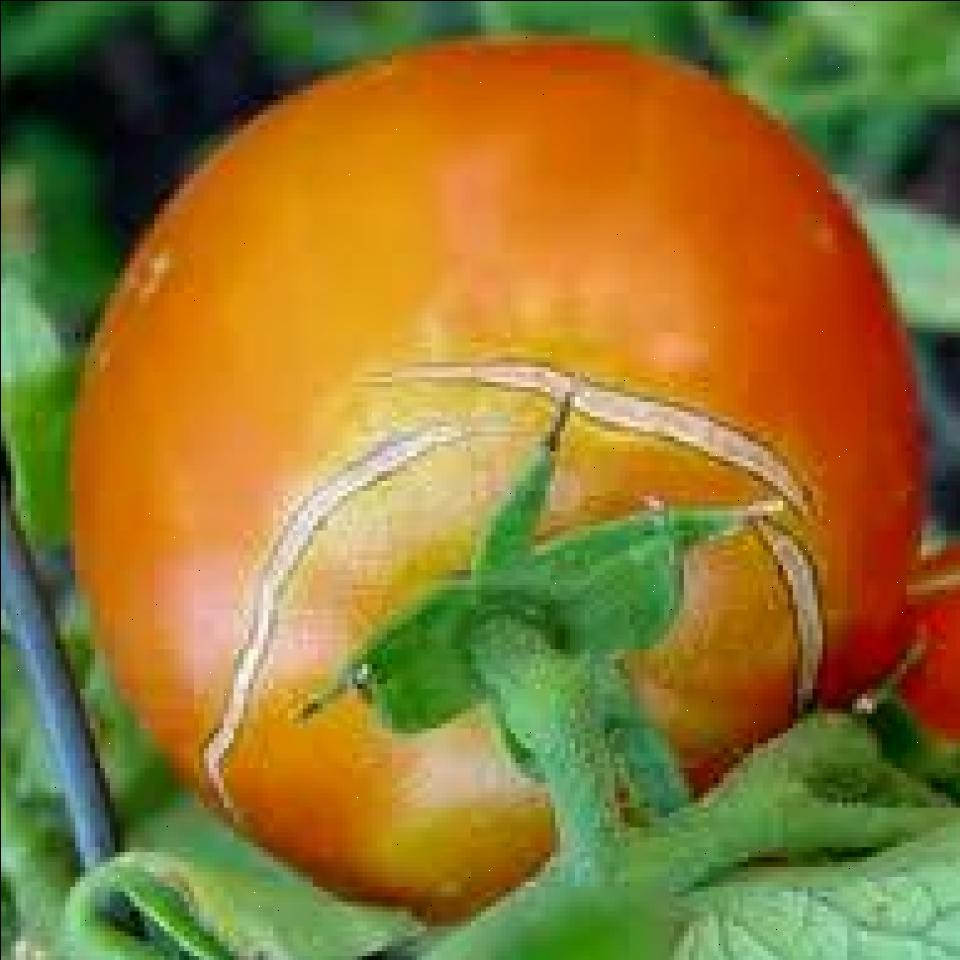Cracking: (298, 297, 870, 553), (178, 402, 468, 844), (684, 477, 835, 768)
